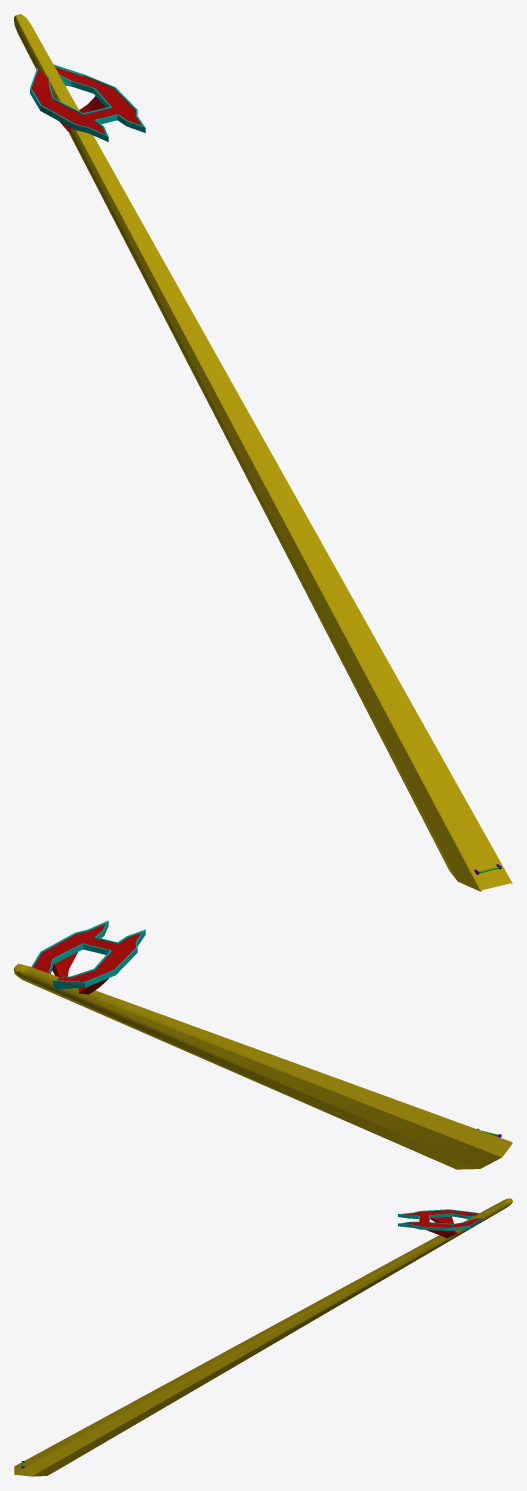
File: MastCrows_low.fbx
The picture shows the model from 3 angles, top to bottom: view 1: azimuth 30°, elevation 25°; view 2: azimuth 150°, elevation 25°; view 3: azimuth 270°, elevation 25°; orthographic projection. The views are drawn at different scales.
Visible parts, largest first — view 1: Mast_low, CrowsNest_low; view 2: Mast_low, CrowsNest_low; view 3: Mast_low, CrowsNest_low.
Part boxes in pixels (x1,y1,x2,y2): Mast_low: [14, 14, 512, 891]; CrowsNest_low: [30, 64, 145, 141]; Mast_low: [14, 963, 512, 1169]; CrowsNest_low: [31, 920, 145, 994]; Mast_low: [14, 1198, 512, 1476]; CrowsNest_low: [398, 1209, 483, 1237].
Size of the model in its own units: 3.86 by 25.73 by 42.63.
